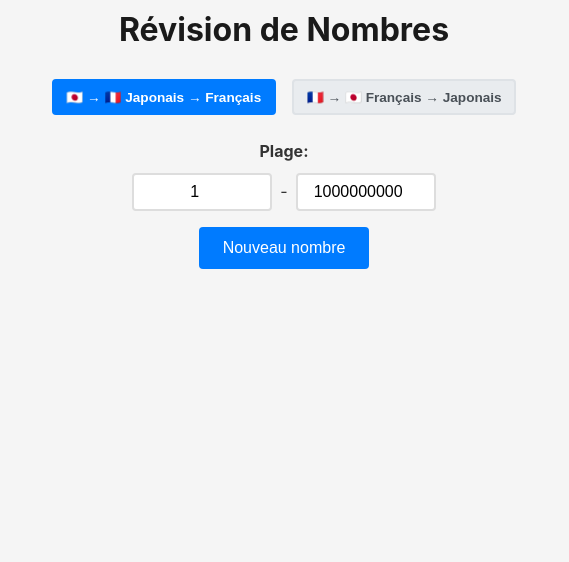
Test: NumberRevisionPage › switching to fr-to-jp mode shows answer input
Click the button "🇫🇷 → 🇯🇵 Français → Japonais". click: (404, 97)
box: [292,79,516,115]
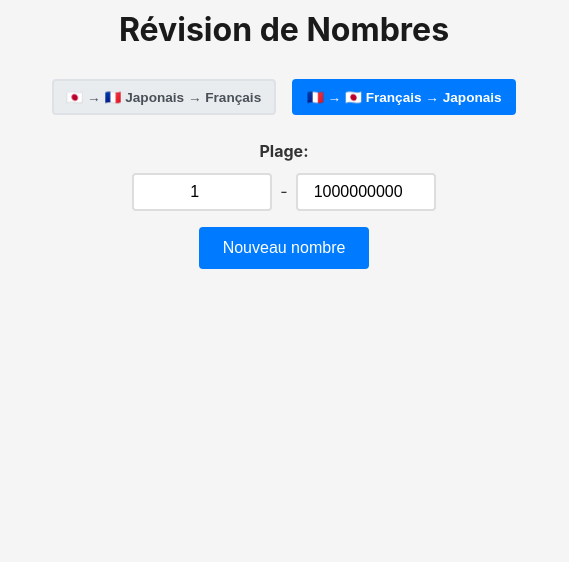
Click the button "Nouveau nombre". click: (284, 248)
box: [199,227,369,269]
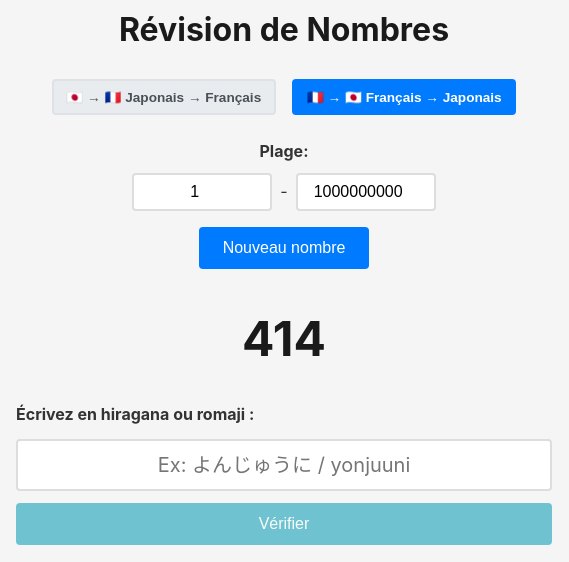
Check: the text "414" is shown, box [242,309,326,368]
Check: the field labelled "Écrivez en hiragana ou romaji :" is shown, box [16,439,552,491]
